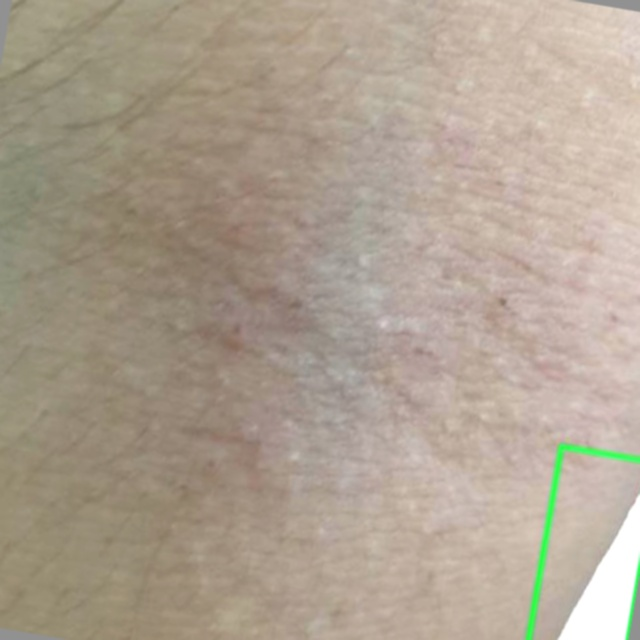Contact Dermatitis: (528, 446, 639, 639)
